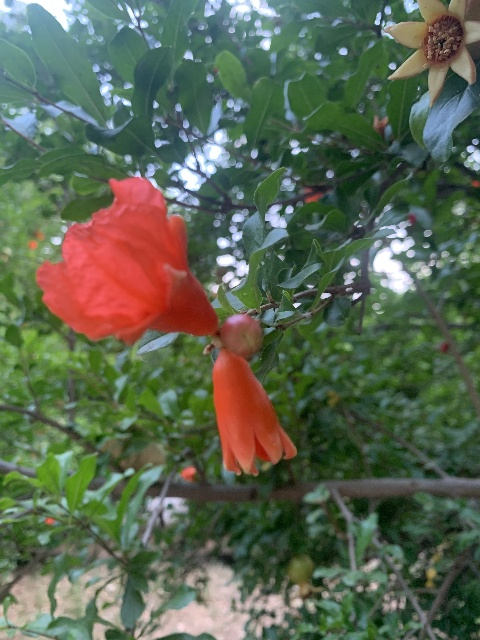bud: (219, 313, 262, 358)
early-fruit: (383, 0, 479, 106)
flower: (35, 176, 217, 346), (211, 348, 295, 474)
mid-growth: (285, 553, 324, 600)
